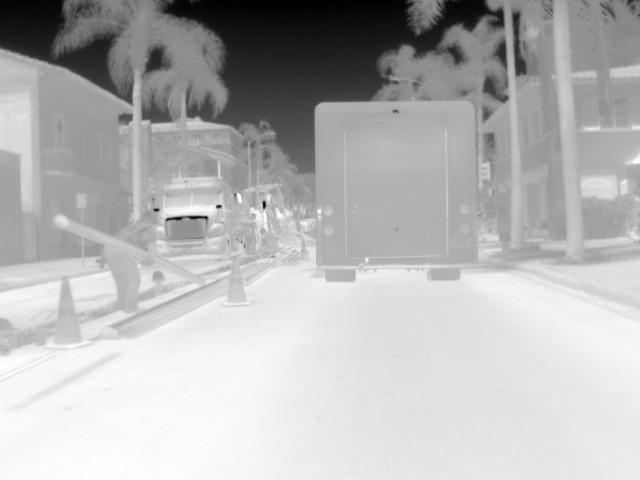person: (114, 210, 161, 256), (140, 270, 170, 301), (242, 211, 259, 255), (257, 230, 283, 255)
